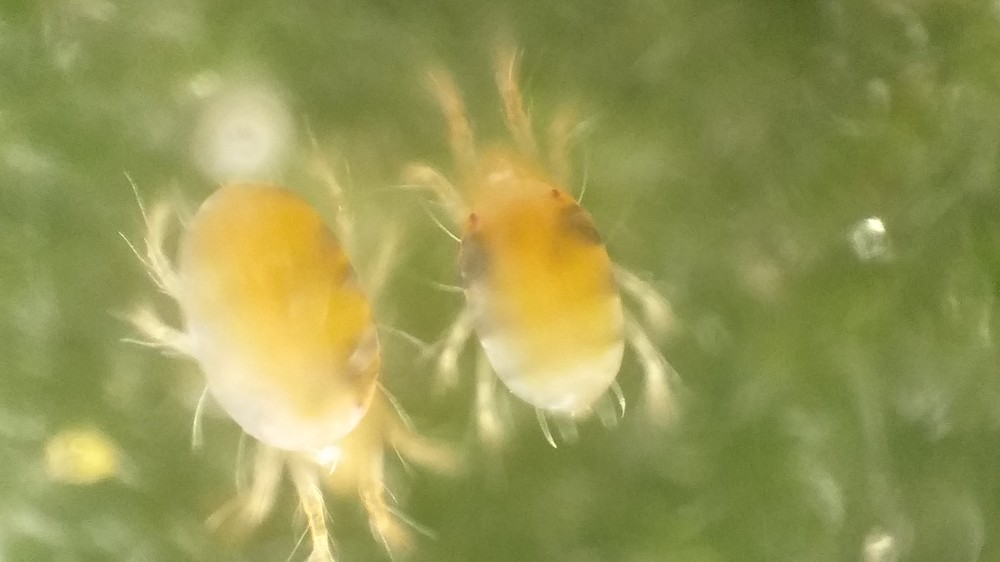Aracnido Rojo: (398, 48, 715, 493), (117, 138, 444, 562)
